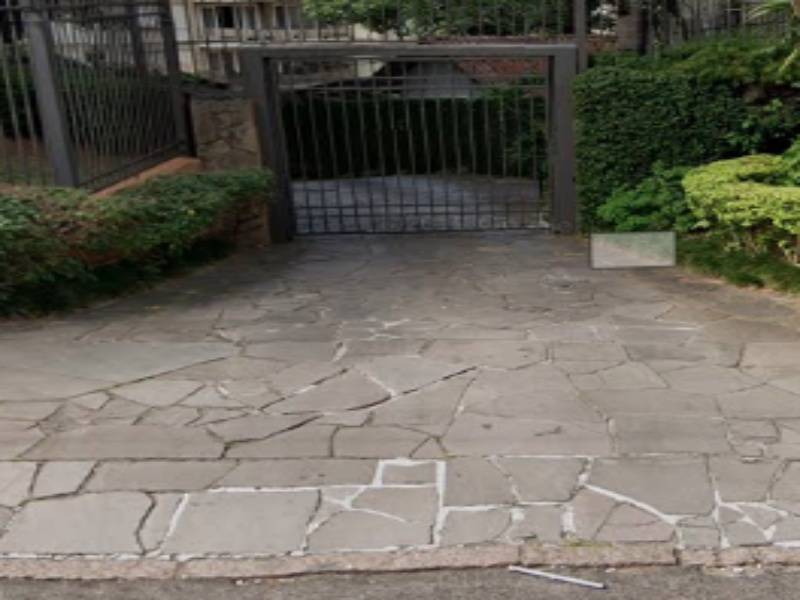g65: (11, 469, 771, 600)
